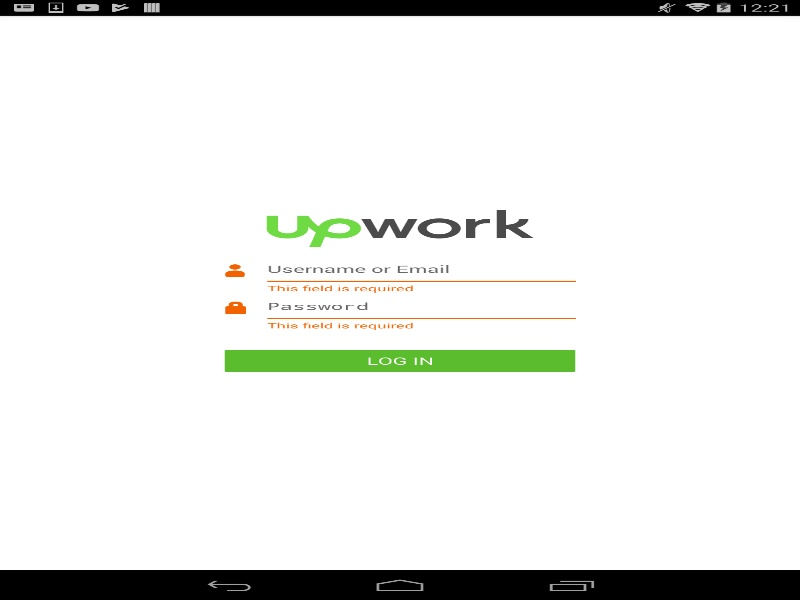Button: (219, 345, 580, 375)
Input: (203, 257, 576, 294), (203, 294, 576, 331)
